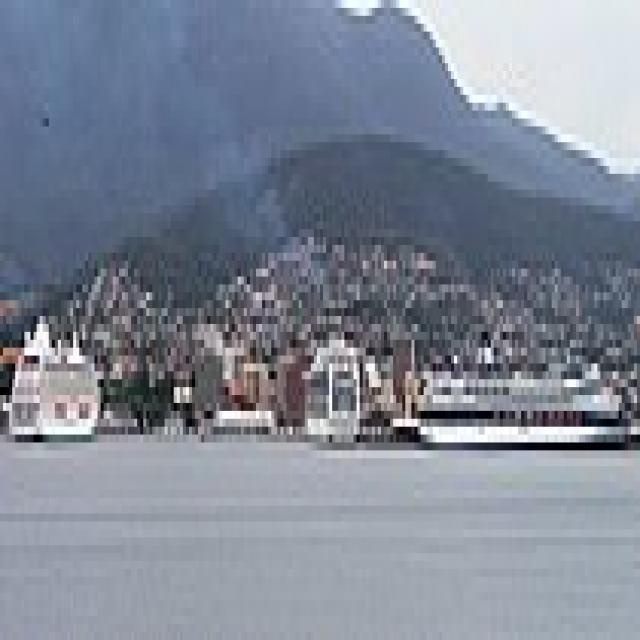Ship: (415, 357, 632, 460), (7, 310, 105, 452)
